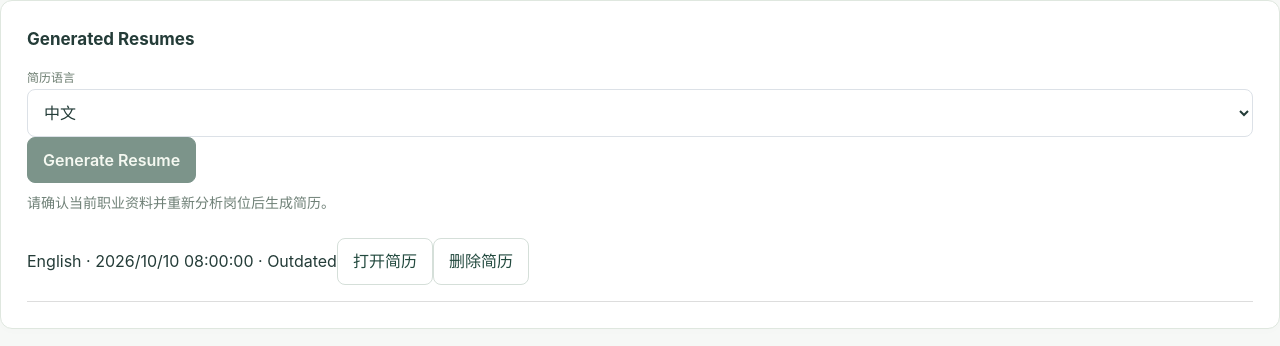
Test: blocks outdated jobs, lists history and deletes just the resume
The width and height of the screenshot is (1280, 346).
Expected: the text "English · 2026/10/10 08:00:00 · Outdated" is shown, [27,251,337,271]
Expected: the button "Generate Resume" is disabled, [27,137,196,183]
Step 1. Click the button "删除简历" → (481, 262), box [433,238,529,285]
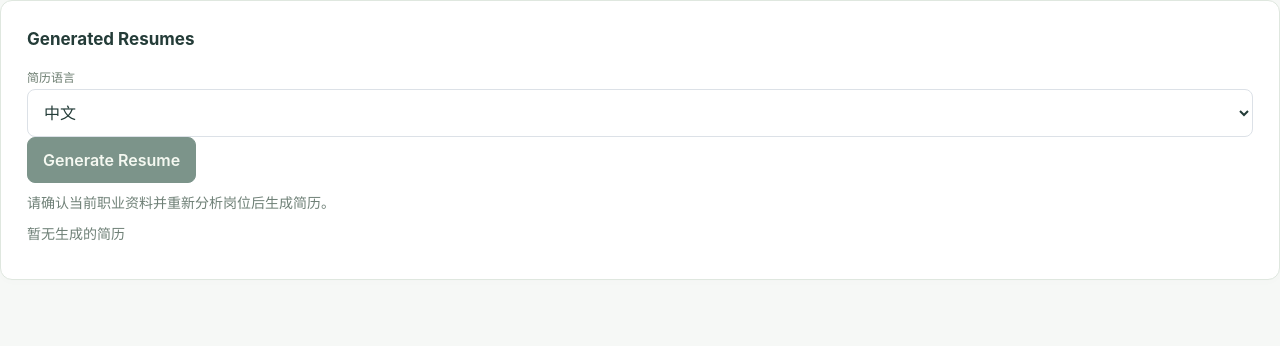
Expected: the text "暂无生成的简历" is shown, [27,225,125,242]
